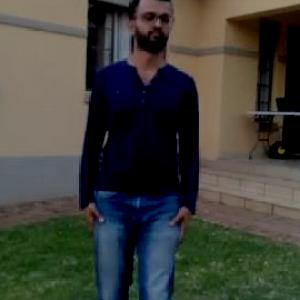follow: (87, 0, 196, 299)
